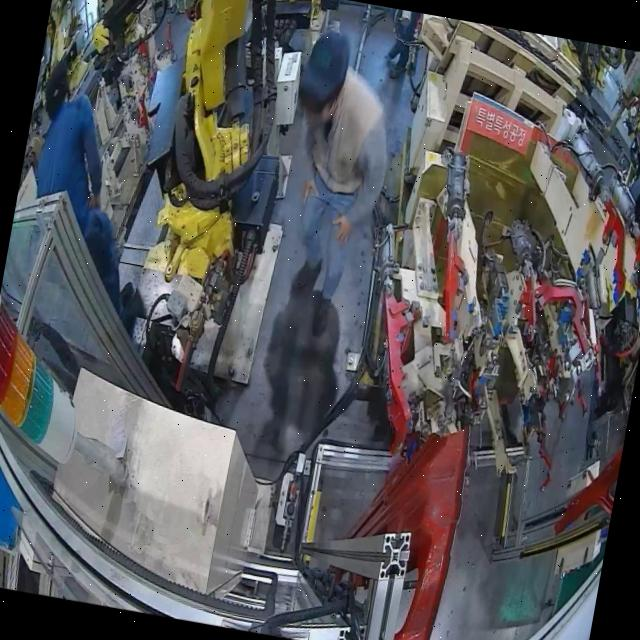Person: (256, 24, 408, 344), (8, 51, 165, 320)
